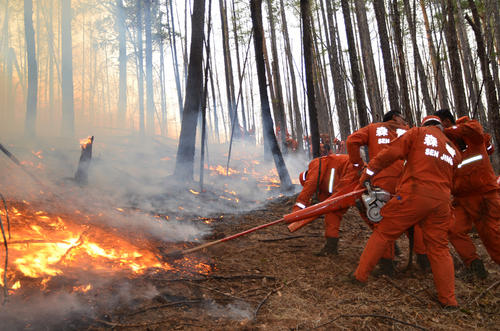fire: (1, 205, 166, 284)
